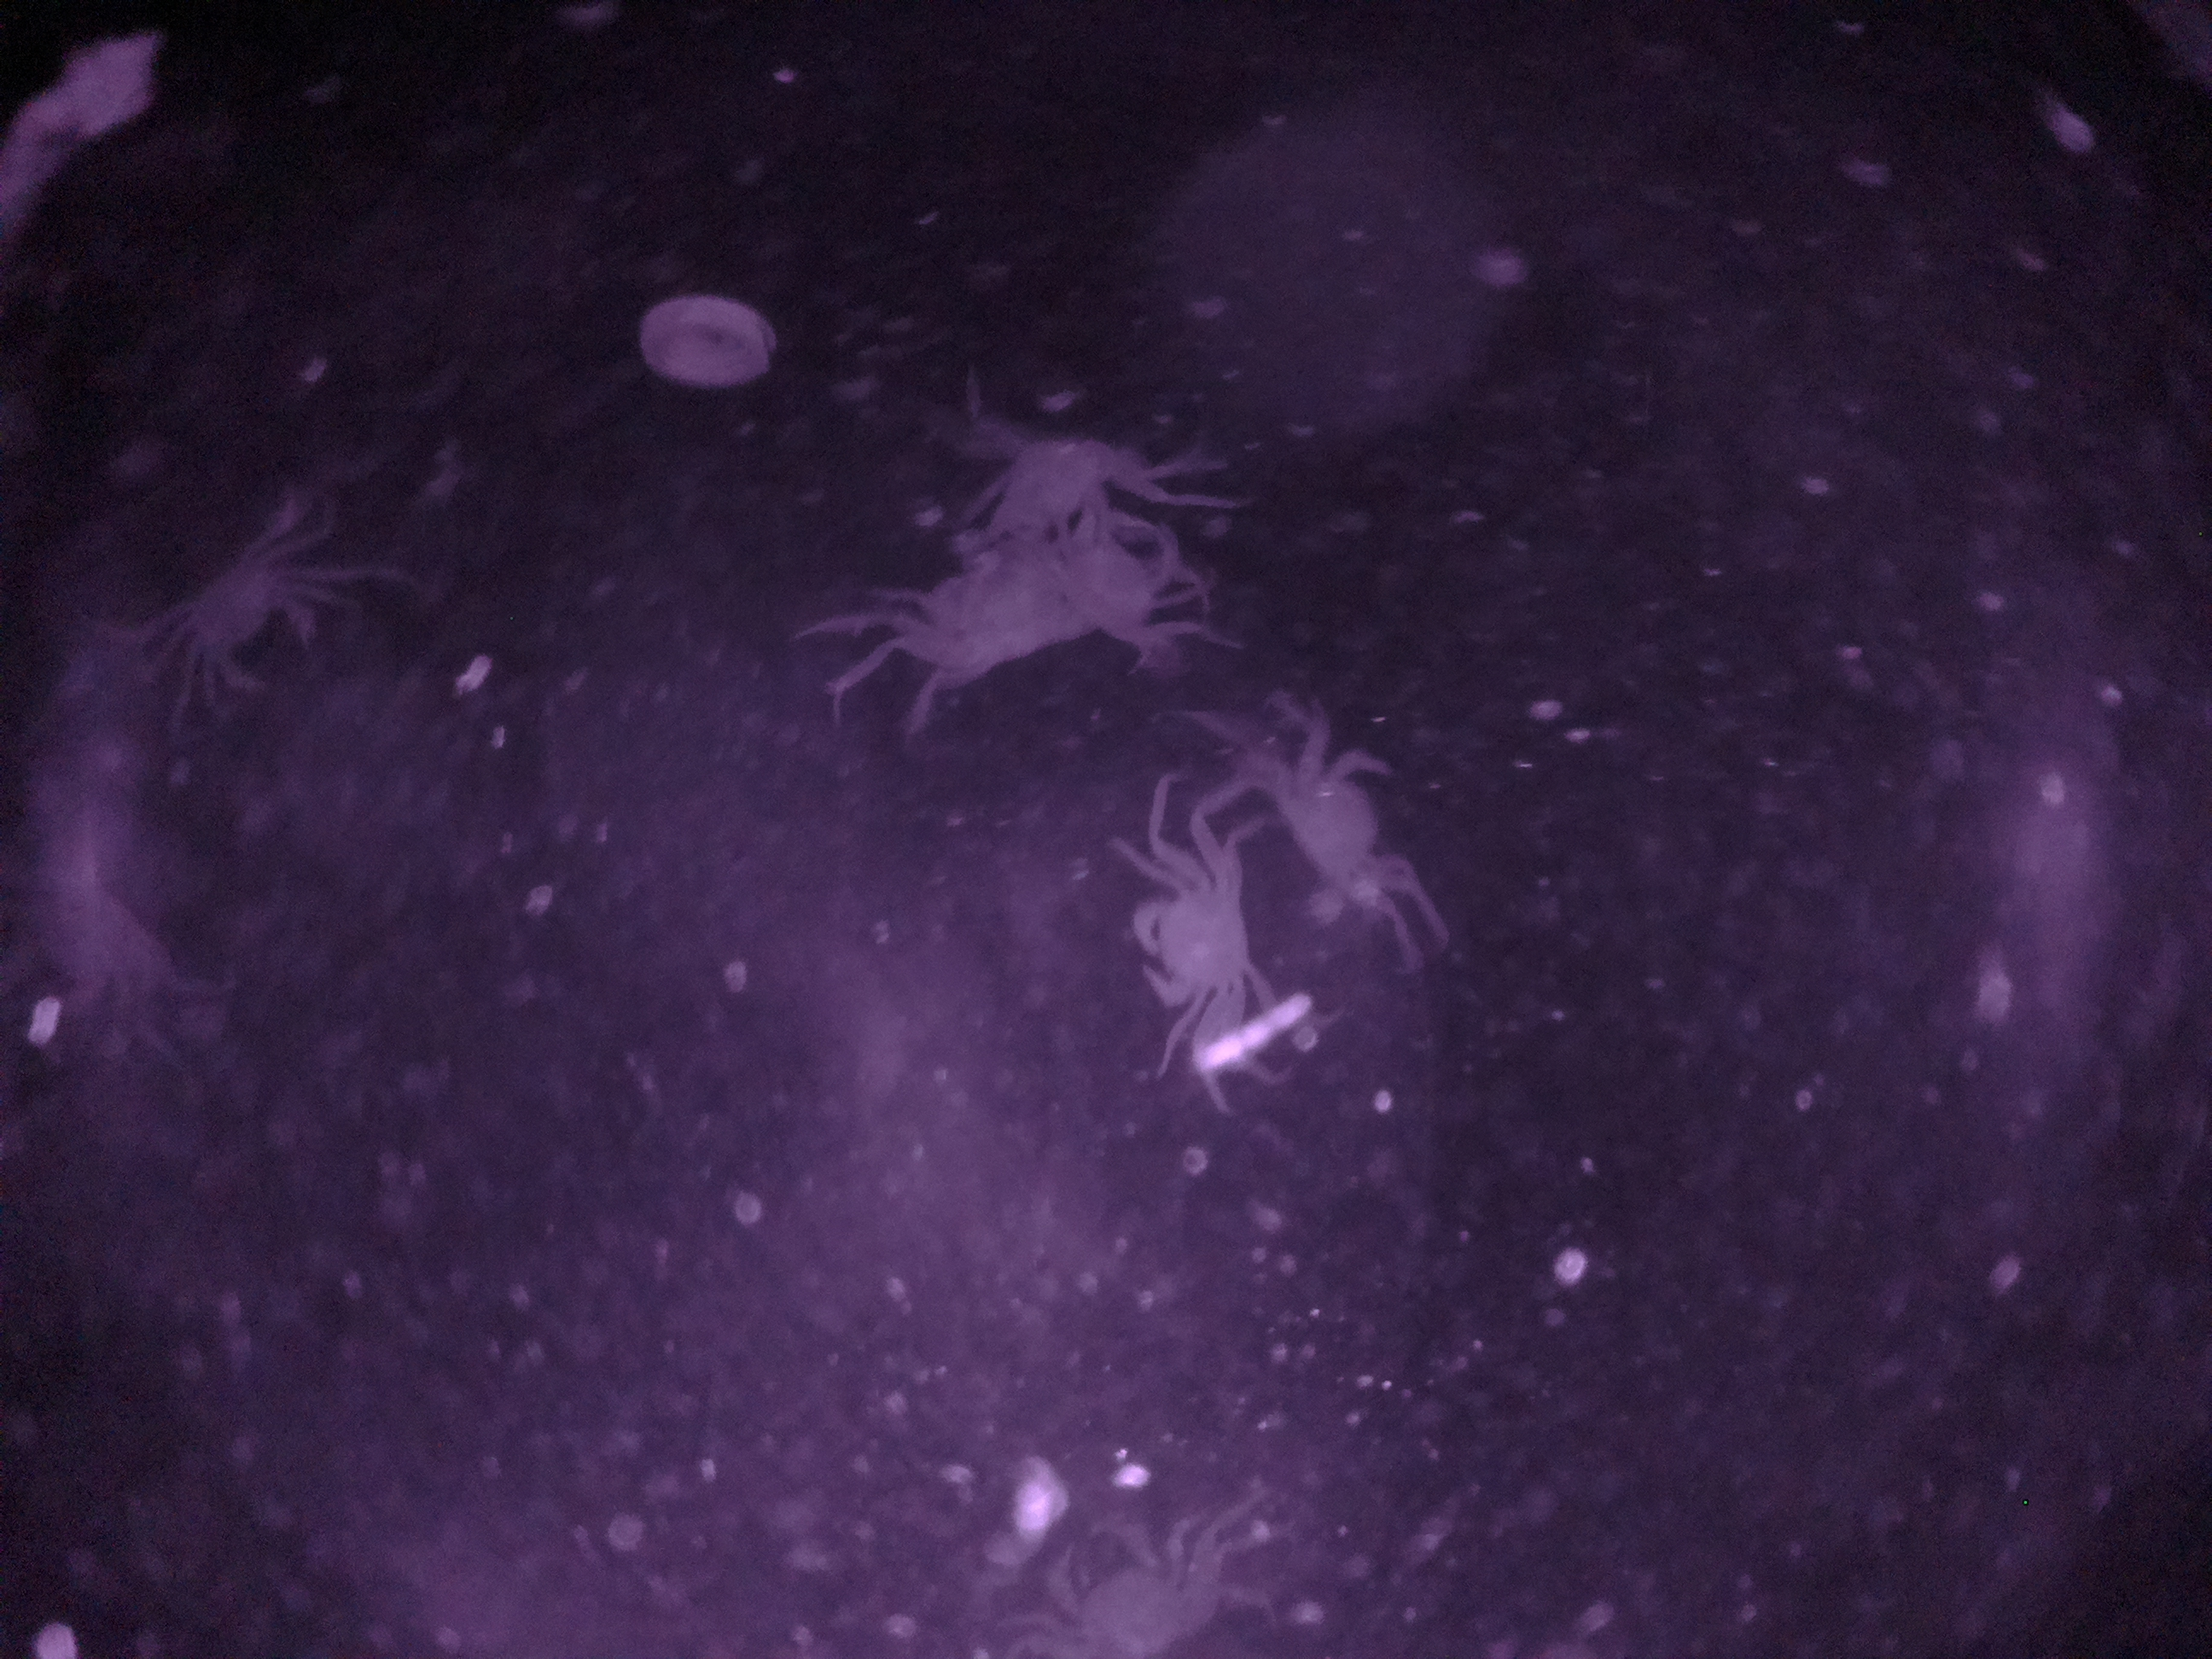Crab: (1115, 829, 1268, 1046)
